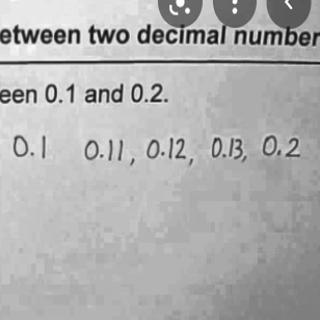.: (274, 146, 285, 158), (238, 154, 250, 165), (160, 95, 170, 108), (57, 94, 69, 104), (141, 93, 149, 108), (98, 150, 107, 160), (221, 151, 228, 162), (29, 149, 36, 158)
0: (260, 133, 279, 158), (208, 136, 225, 162), (83, 139, 100, 164), (130, 79, 144, 106), (44, 81, 58, 106), (13, 134, 28, 157), (147, 138, 161, 159)
1: (68, 79, 81, 106), (116, 136, 126, 163), (40, 134, 49, 160), (168, 135, 177, 161), (107, 138, 116, 162), (227, 135, 235, 157)
2: (285, 136, 306, 159), (150, 79, 165, 104), (176, 134, 186, 162)
3: (234, 135, 248, 160)
